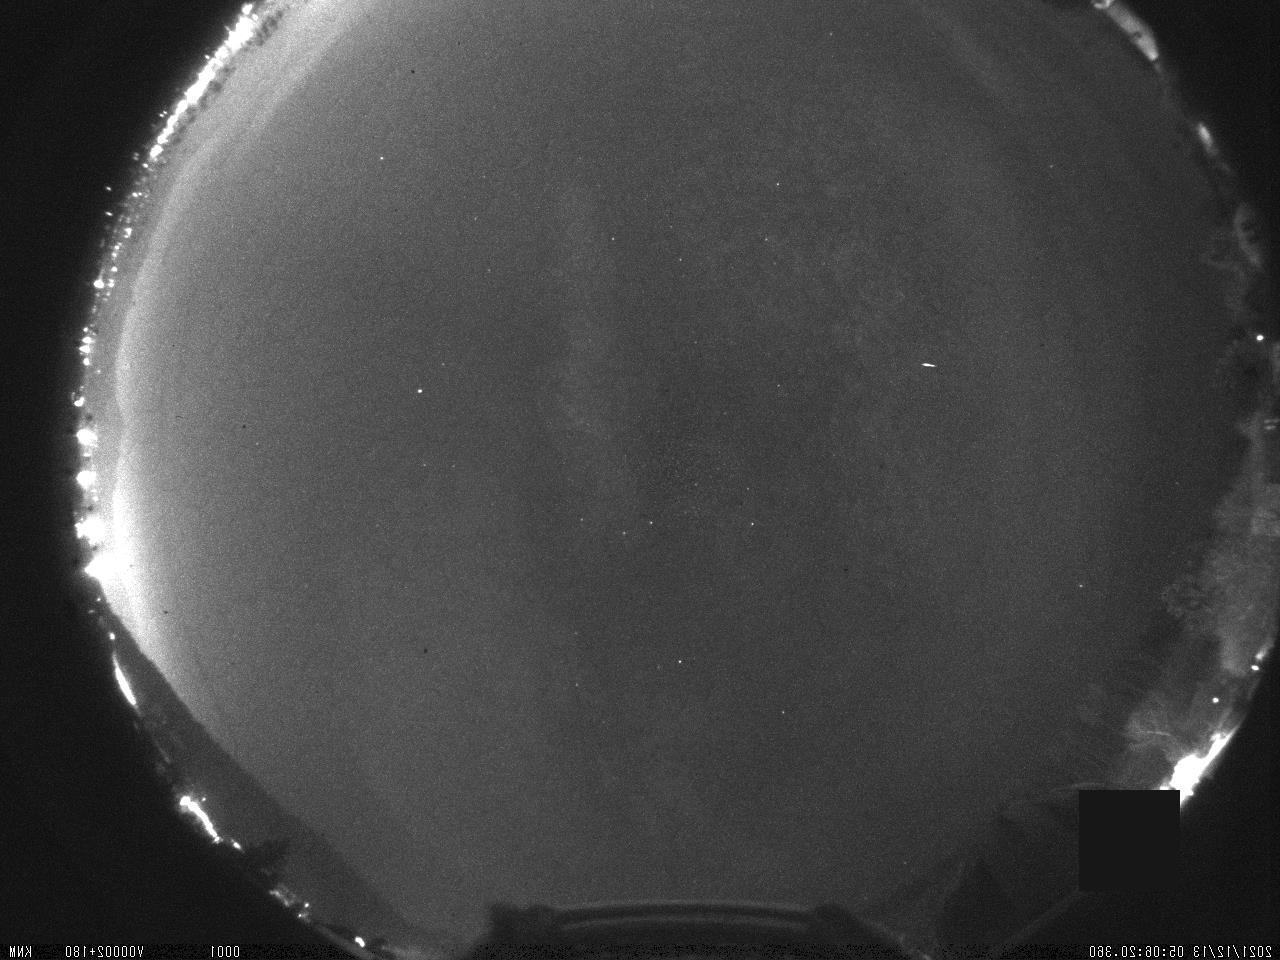meteor: (920, 362, 938, 368)
